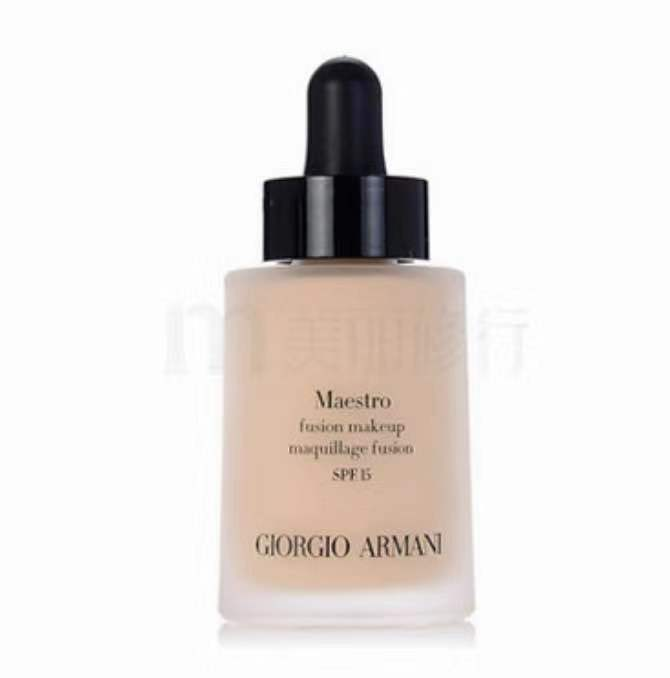cosmetic: (214, 56, 471, 619)
